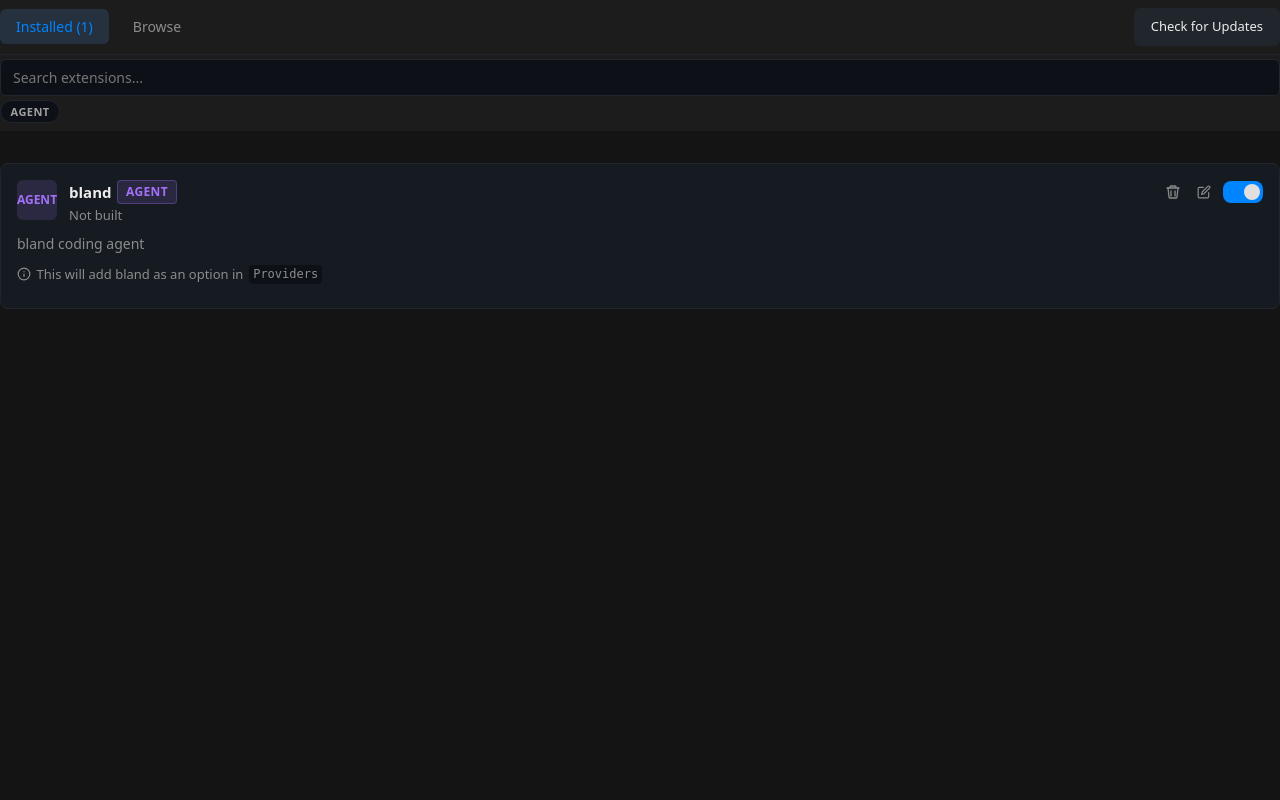
Scenario: Browse: the question is asked before anything is installed › installs nothing when the dialog is dismissed
Expected: the text "bland" is shown, top-left (69, 180), bottom-right (112, 203)
Click the button "Browse".
click(157, 27)  # box top-left (117, 9), bottom-right (197, 44)
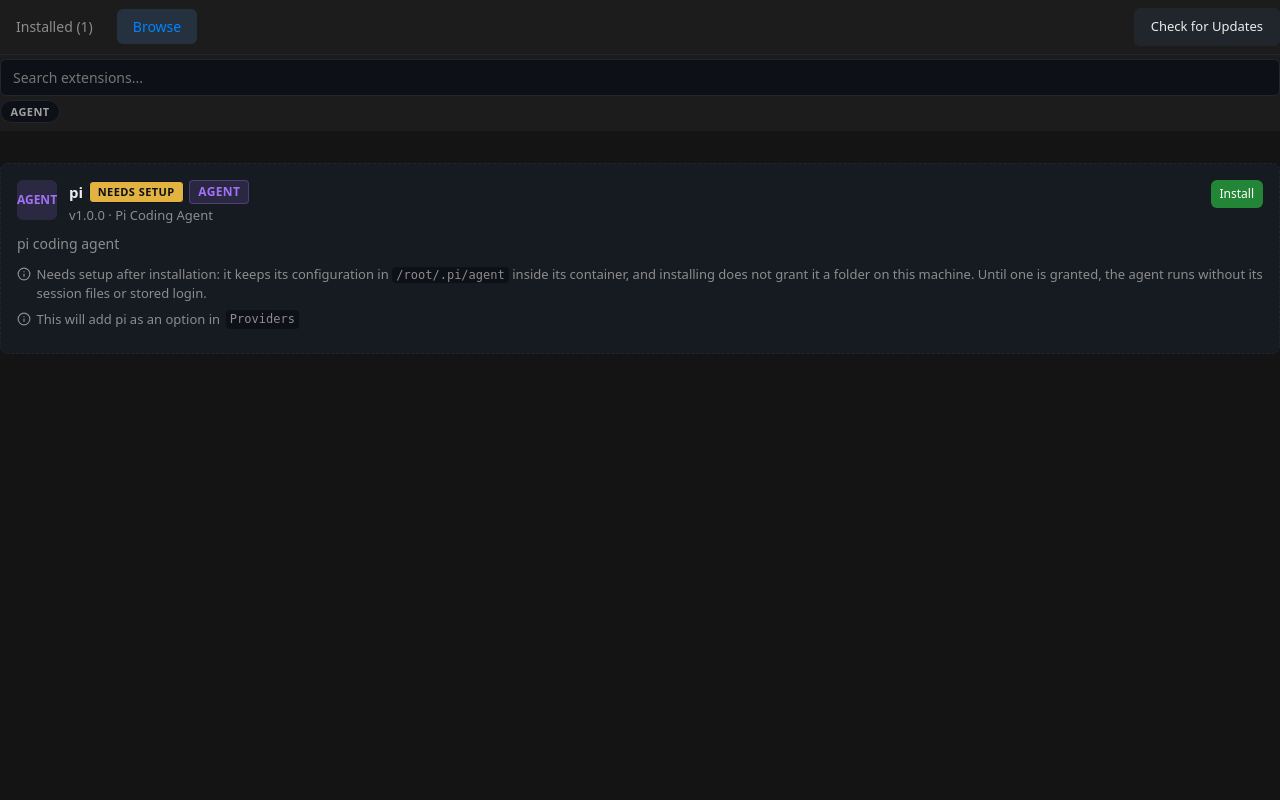
Result: the element with class "registry-card" is shown at top-left (0, 163), bottom-right (1279, 354)
Click the button "Install".
click(1237, 194)  # box top-left (1210, 180), bottom-right (1263, 208)
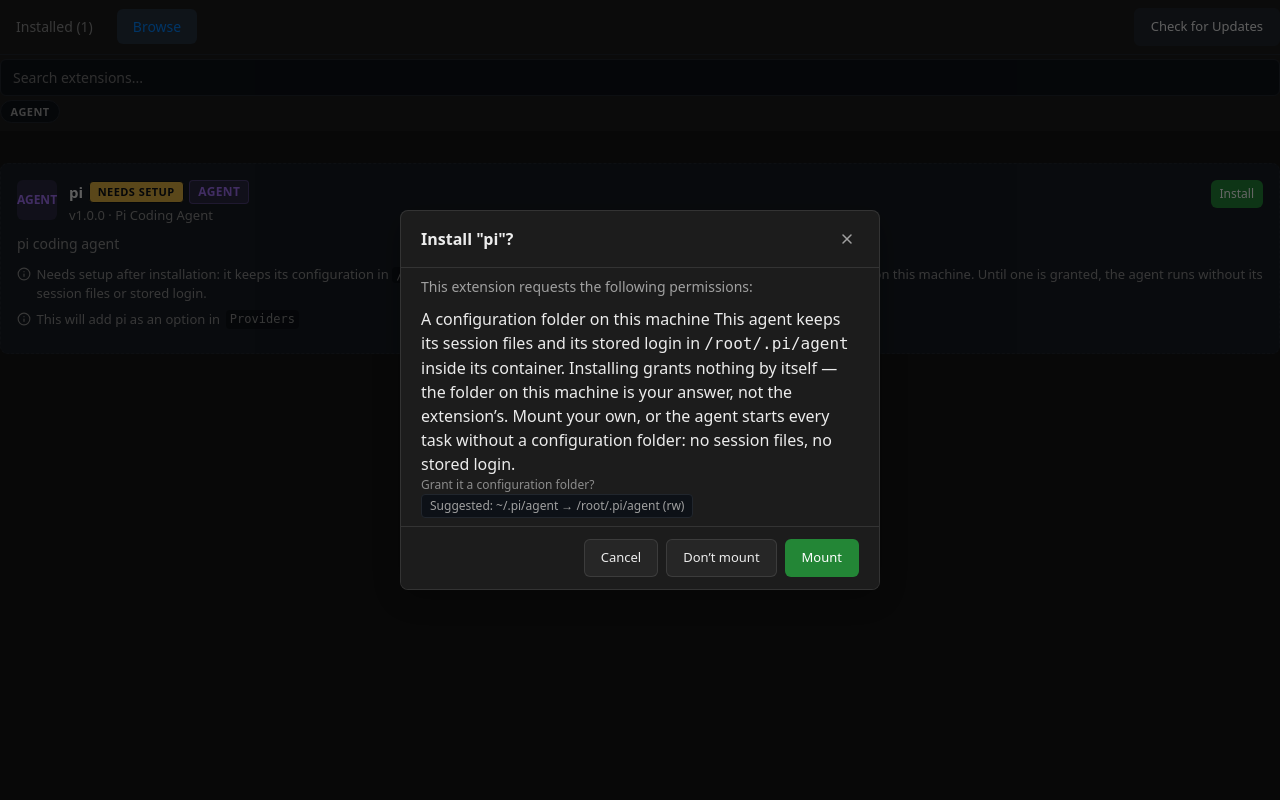
Result: the text "Grant it a configuration folder?" is shown at top-left (421, 476), bottom-right (594, 493)
Click the button "Cancel".
click(621, 558)  # box top-left (584, 539), bottom-right (658, 577)
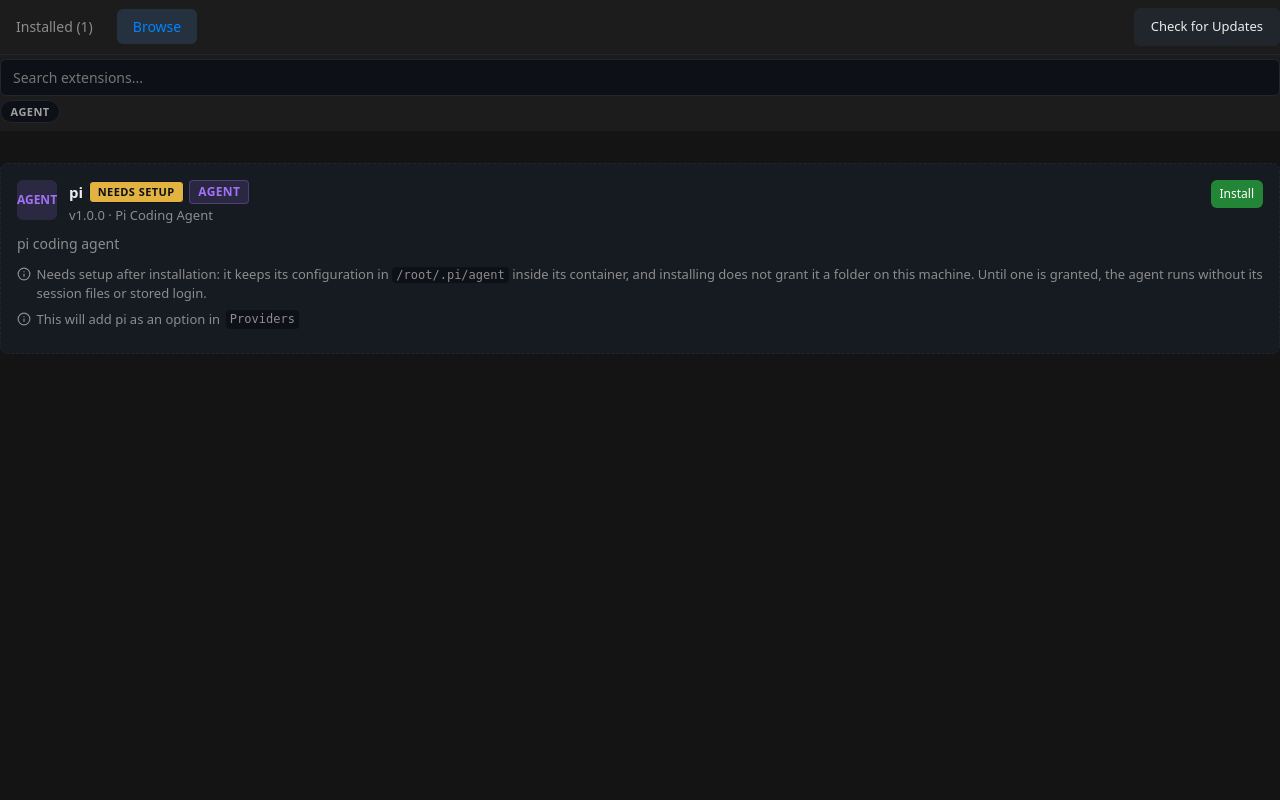
Result: the text "Grant it a configuration folder?" is gone
